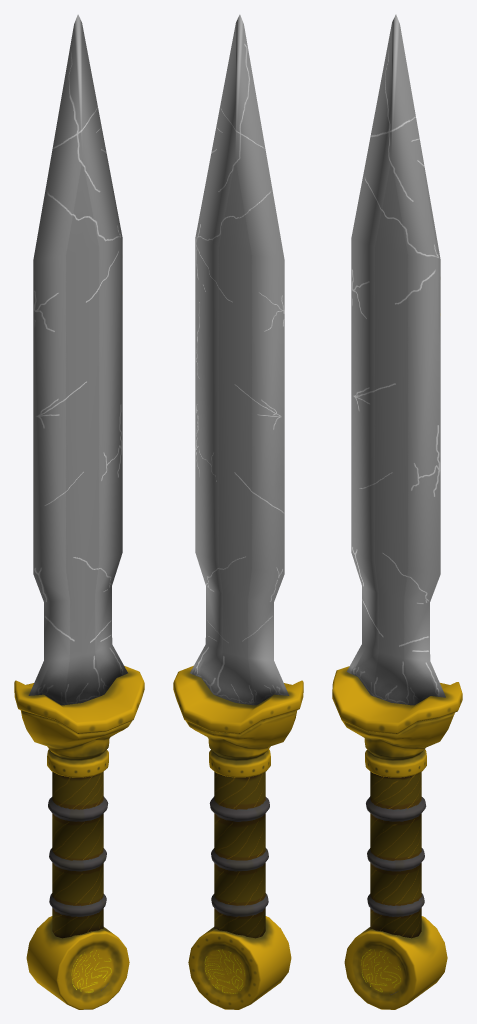
Rendered from kilic_02.fbx.
The picture shows the model from 3 angles, left to right: view 1: azimuth 30°, elevation 25°; view 2: azimuth 150°, elevation 25°; view 3: azimuth 330°, elevation 25°; orthographic projection.
Parts seen in each view (by area): view 1: kilic_02; view 2: kilic_02; view 3: kilic_02.
Part boxes in pixels (<box>): kilic_02: <box>14,14,144,1009</box>; kilic_02: <box>173,14,303,1009</box>; kilic_02: <box>332,14,462,1009</box>.
Size of the model in its own units: 26.6 by 204 by 22.18.
1 material, 1 textured.
